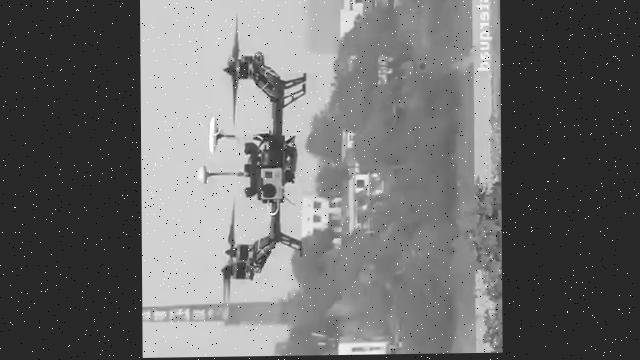drone: (193, 8, 309, 302)
